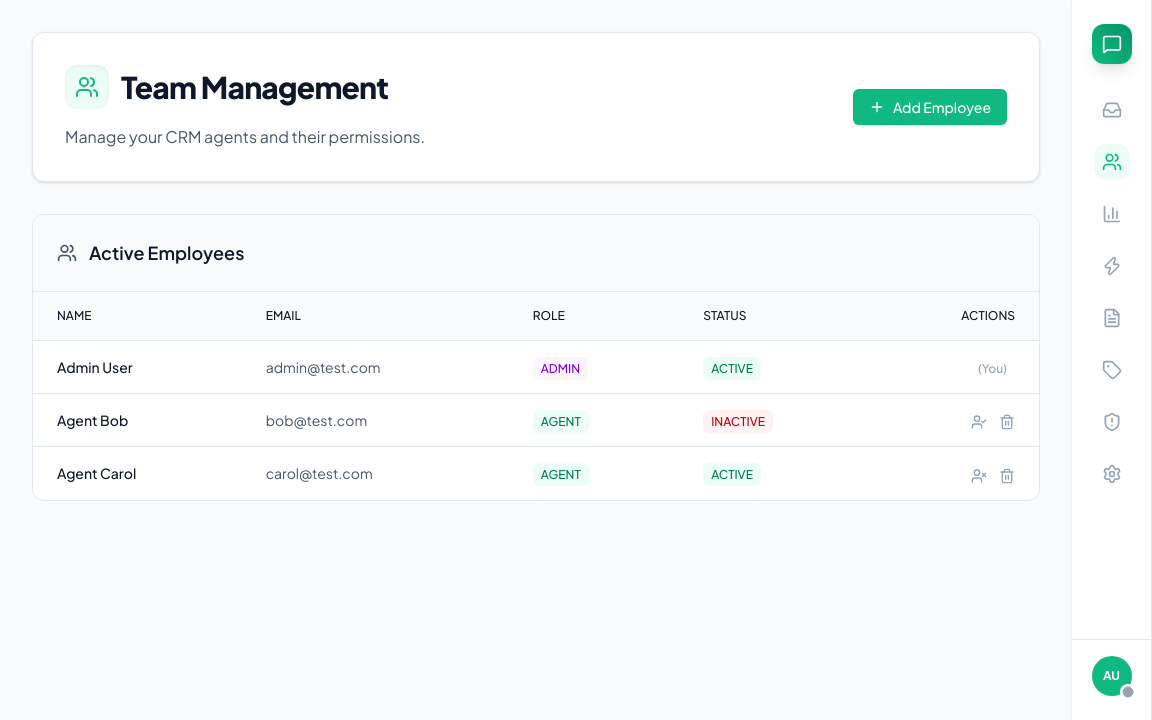
Test: Admin Team Management Page › deactivates an active user via the confirmation modal
Expected: the text "Agent Carol" is shown, top-left (33, 447), bottom-right (242, 500)
Click the button titled "Deactivate User". click: (979, 473)
box: top-left (971, 463), bottom-right (987, 484)
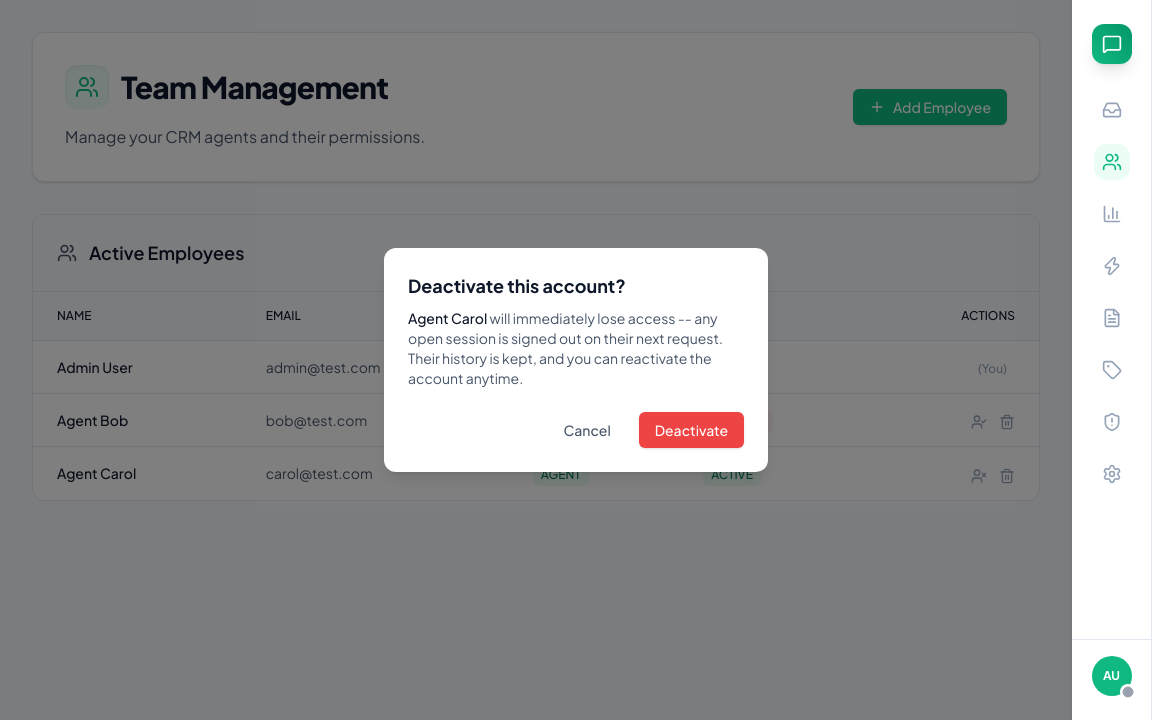
Result: the heading "Deactivate this account?" is shown at top-left (408, 274), bottom-right (626, 297)
Click the button "Deactivate". click: (691, 430)
box: top-left (639, 412), bottom-right (744, 448)
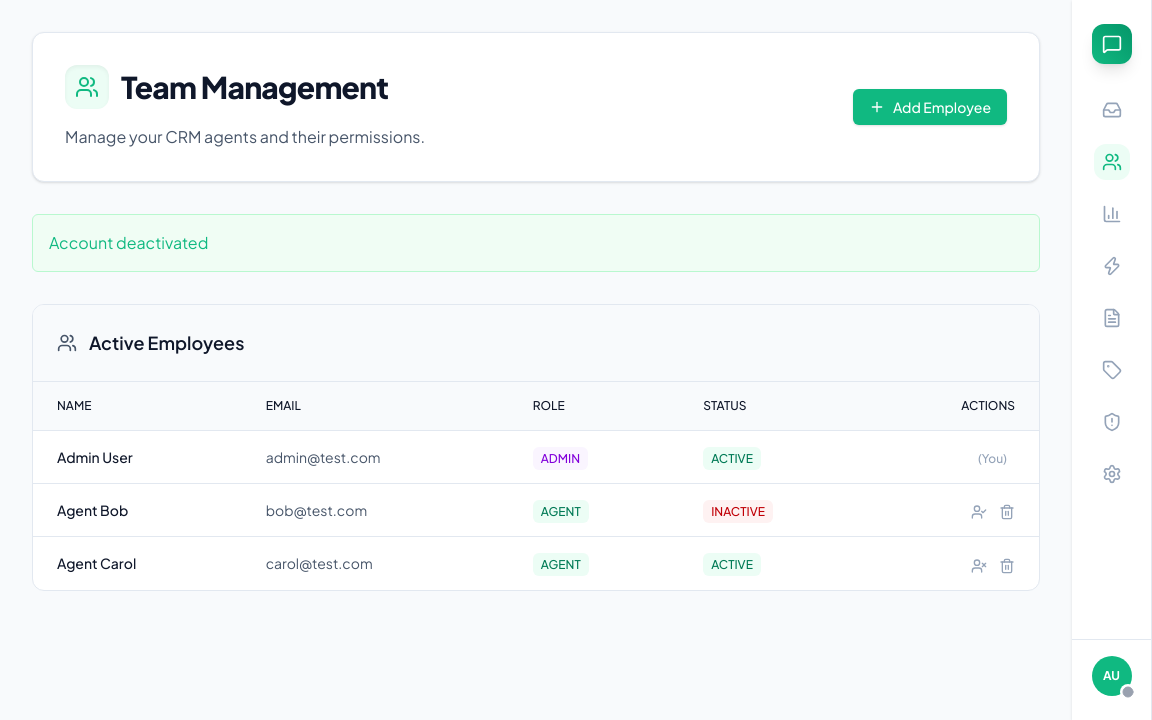
Result: the text "Account deactivated" is shown at top-left (32, 214), bottom-right (1040, 272)
